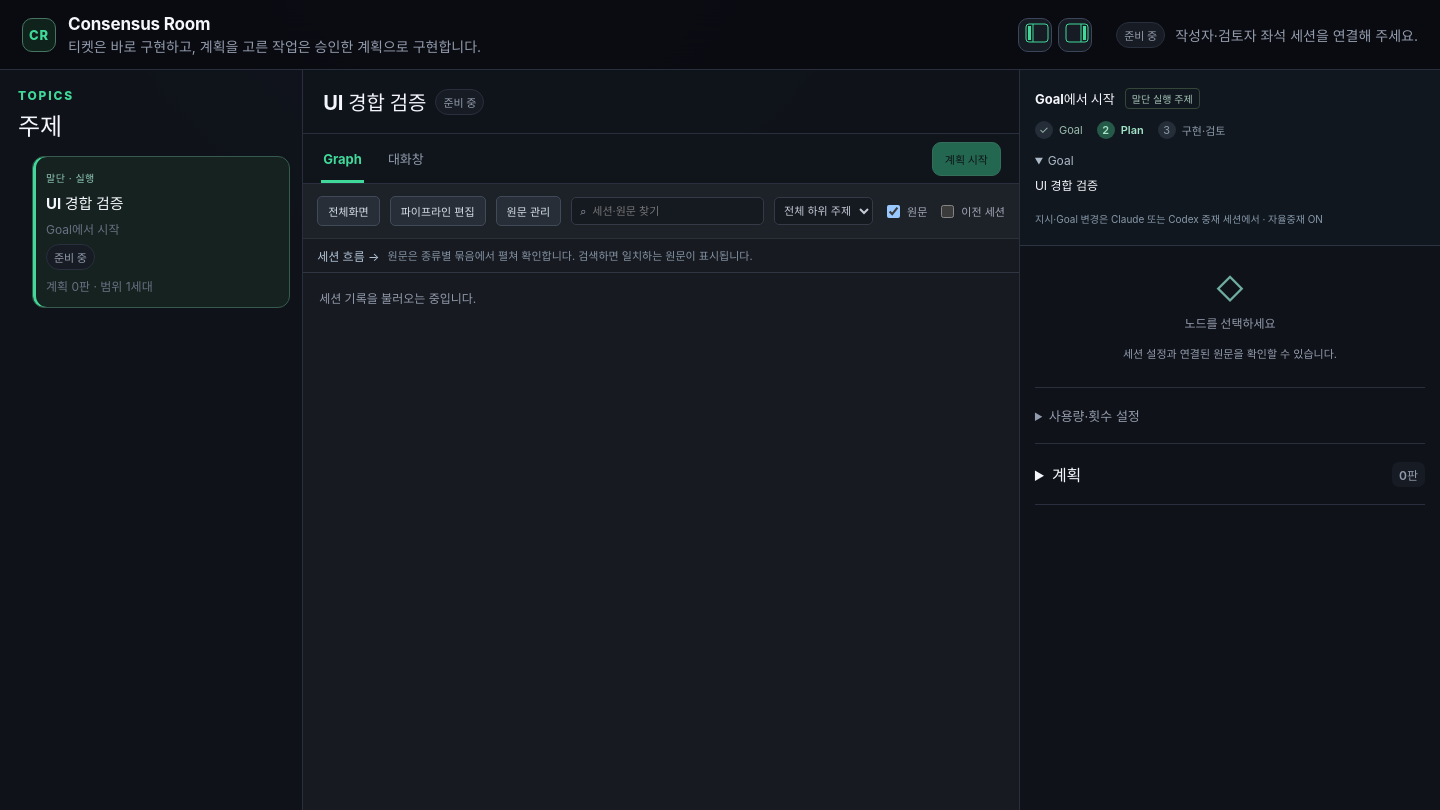
방 화면의 비동기 결과 › 중재 세션의 기록을 보여 주고 웹 지시 입력란과 위임 토글은 제공하지 않는다
This screenshot has width=1440, height=810.
Click the tab "대화창" at (406, 158), box top-left (386, 134), bottom-right (426, 183)
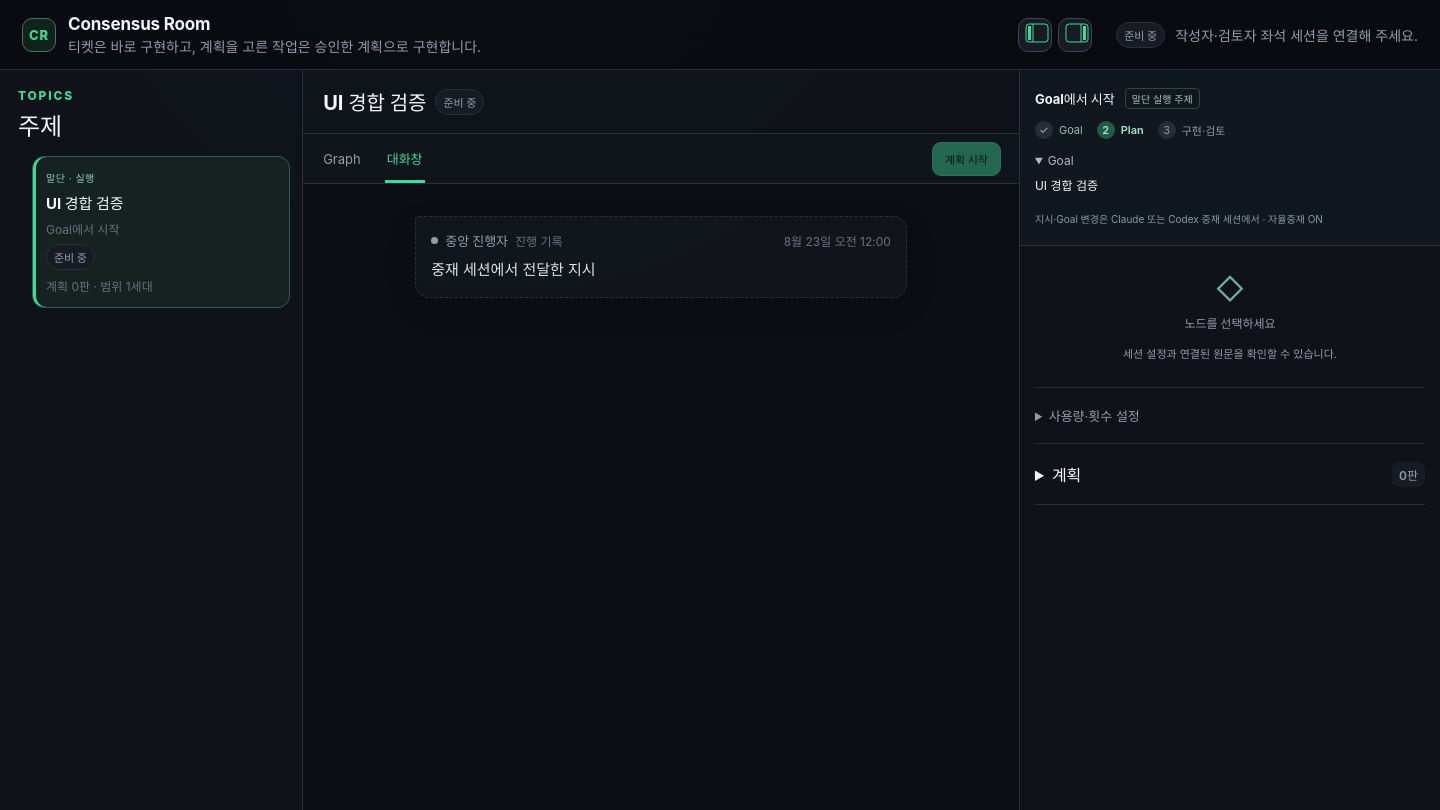
Expected: the element named "작업 실행" is shown, top-left (303, 70), bottom-right (1019, 809)
Result: the text "중재 세션에서 전달한 지시" is shown at top-left (431, 260), bottom-right (596, 279)
